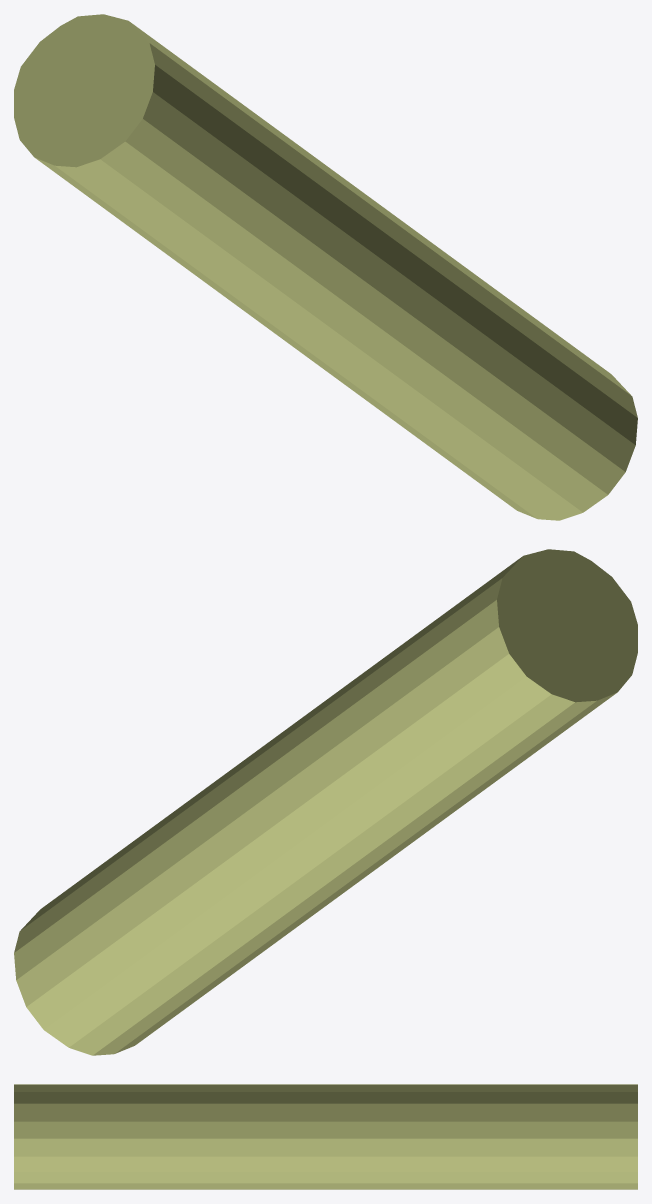
The picture shows the model from 3 angles, top to bottom: view 1: azimuth 30°, elevation 25°; view 2: azimuth 150°, elevation 25°; view 3: azimuth 270°, elevation 25°; orthographic projection. The views are drawn at different scales.
Visible parts, largest first — view 1: 0_3_2_3_1_2_1_0_2_1_3_2; view 2: 0_3_2_3_1_2_1_0_2_1_3_2; view 3: 0_3_2_3_1_2_1_0_2_1_3_2.
Part boxes in pixels (<box>): 0_3_2_3_1_2_1_0_2_1_3_2: <box>14,14,637,520</box>; 0_3_2_3_1_2_1_0_2_1_3_2: <box>14,549,637,1055</box>; 0_3_2_3_1_2_1_0_2_1_3_2: <box>14,1084,637,1189</box>.
Size of the model in its own units: 1.01 by 1.03 by 6.
